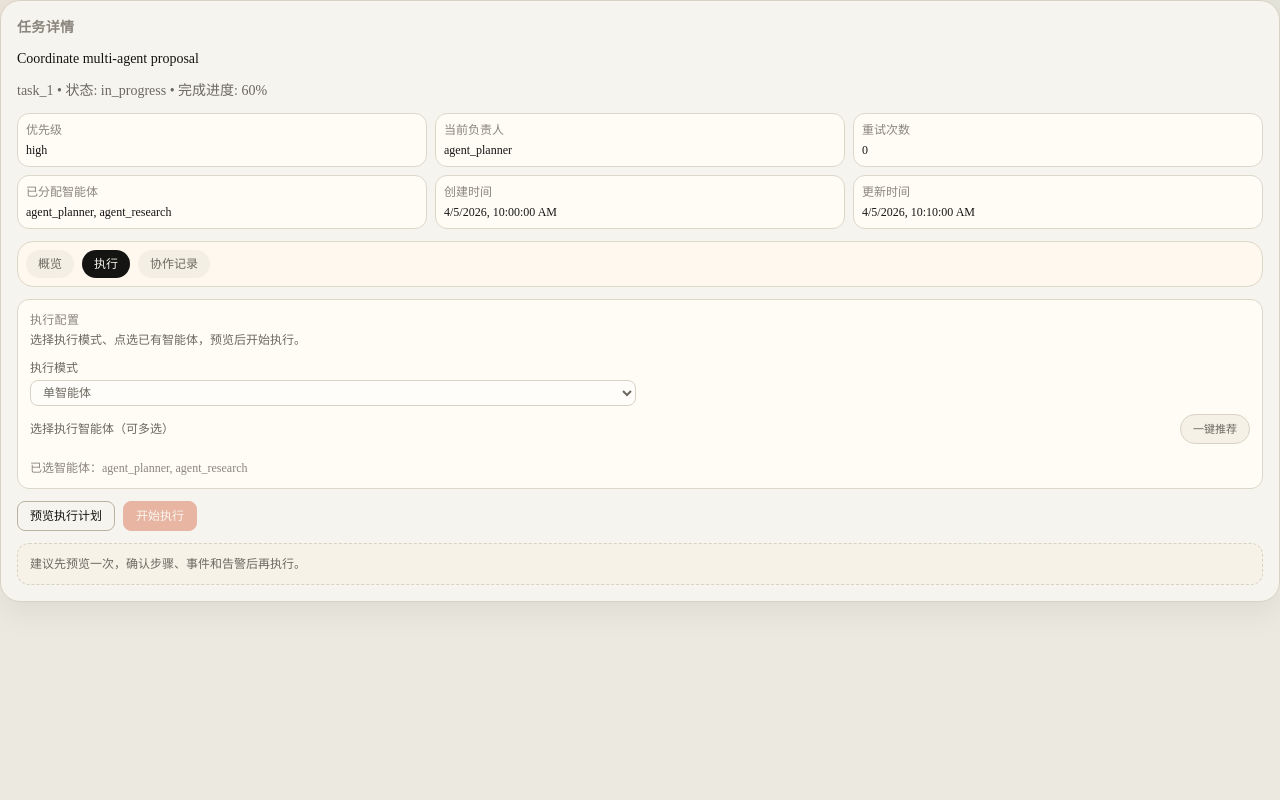
Scenario: TaskDetail › shows preview failure message when preview request fails
Click the button with test id "task-preview-execution-button" at x=66, y=516, box [17,501,115,531]
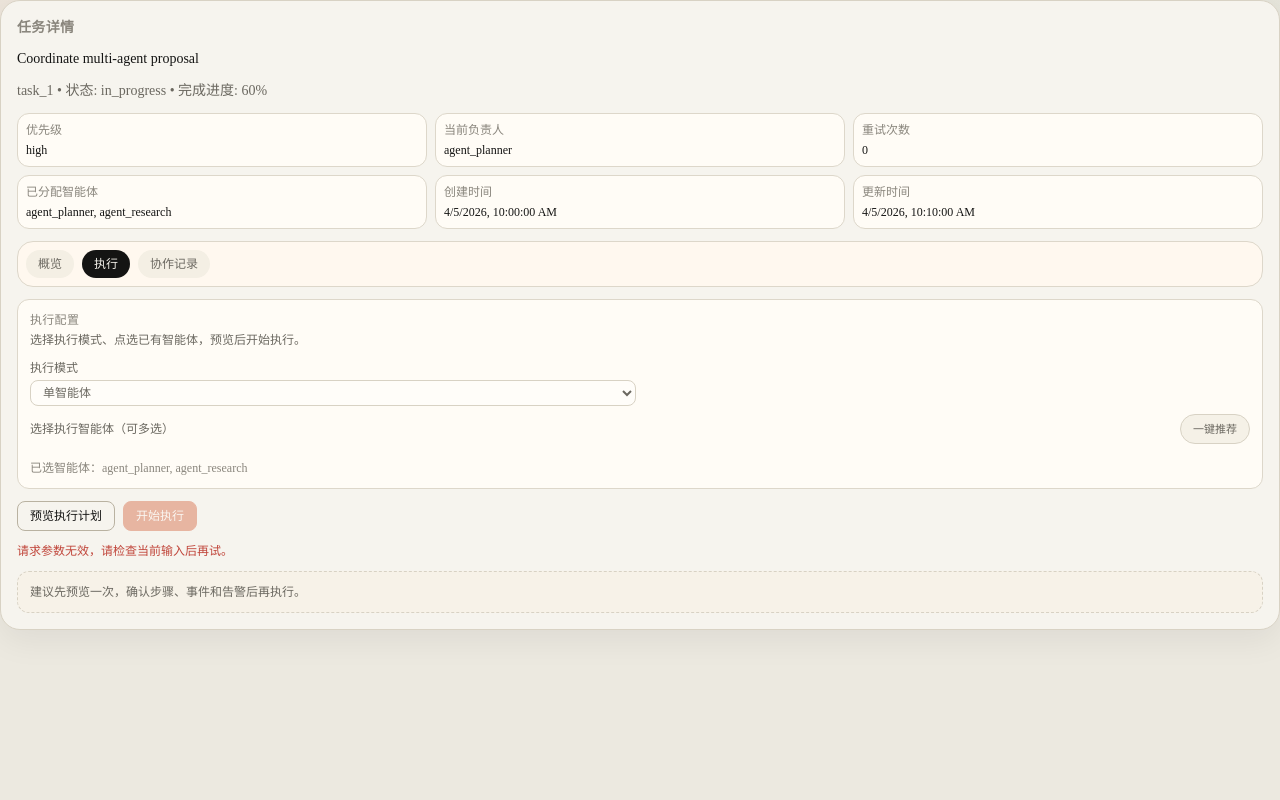
Result: the text "请求参数无效，请检查当前输入后再试。" is shown at [17,544,233,558]
